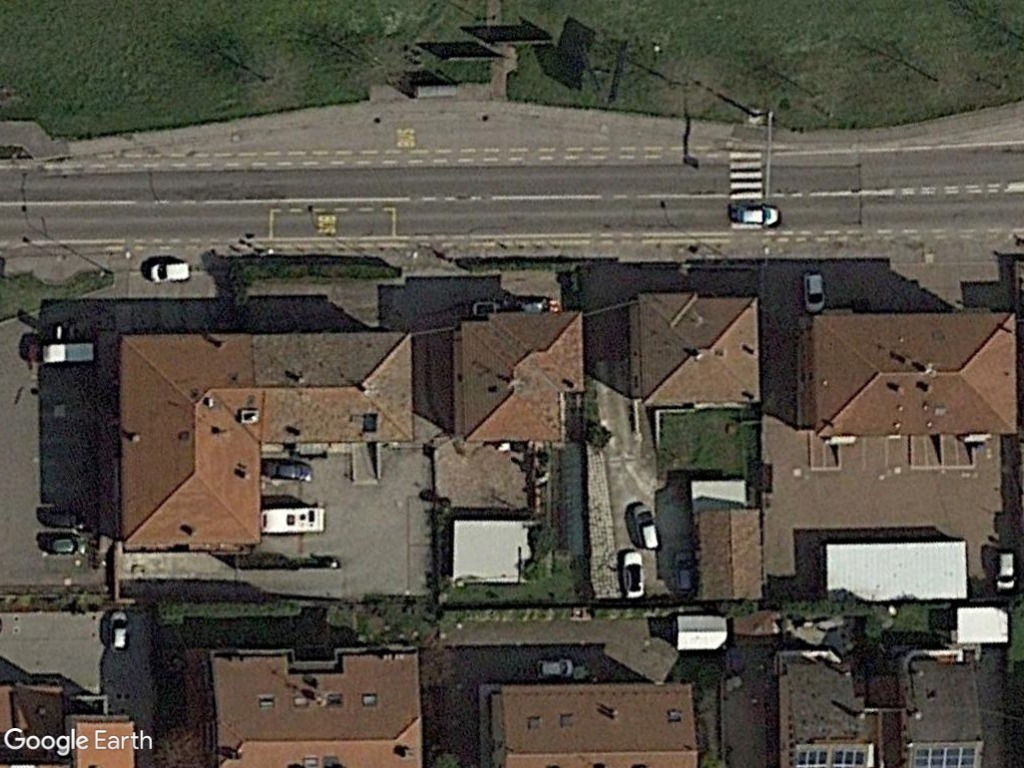car: (259, 454, 319, 486), (729, 198, 784, 231), (618, 545, 649, 601), (629, 501, 663, 551), (37, 531, 94, 560), (668, 547, 699, 600), (105, 605, 133, 658), (799, 266, 828, 315)
longvehicle: (256, 501, 330, 540)
truck: (22, 339, 101, 368)
van: (145, 258, 196, 287)
